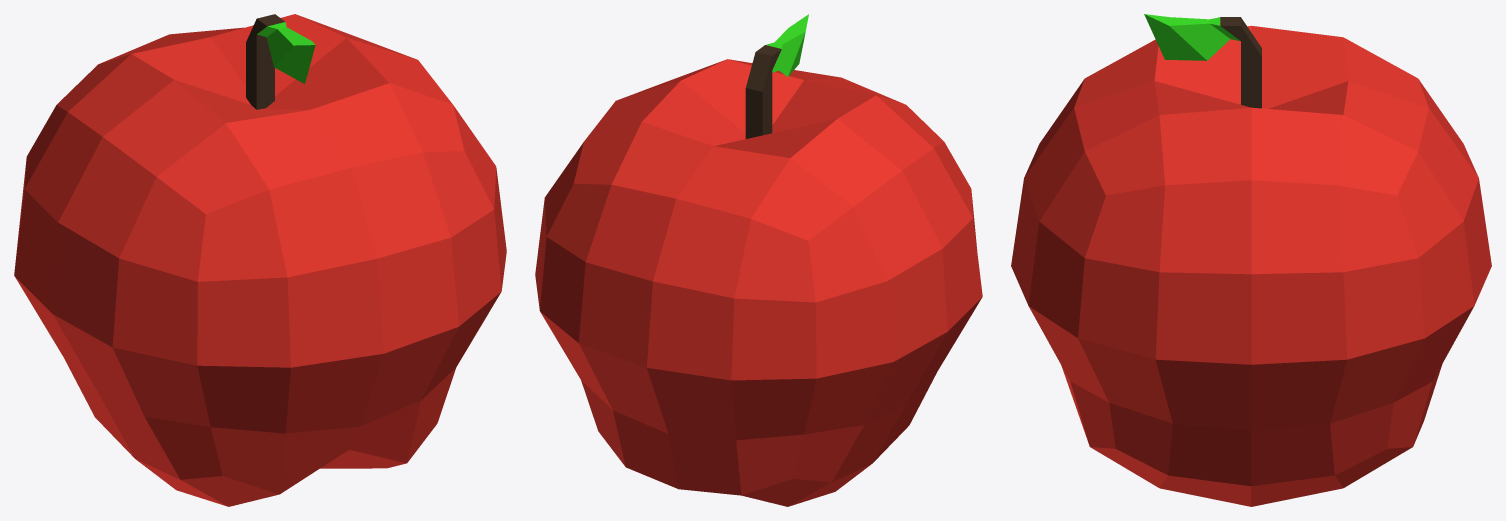
File: Manzana.fbx
3 views of the same model, side by side, from view 1: azimuth 30°, elevation 25°; view 2: azimuth 150°, elevation 25°; view 3: azimuth 270°, elevation 25° (orthographic). The views are drawn at different scales.
Visible parts, largest first — view 1: Cube; view 2: Cube; view 3: Cube.
Boxes of the visible parts, box(x1,y1,x2,y2) form: Cube: box(14, 14, 506, 506); Cube: box(535, 14, 982, 506); Cube: box(1011, 14, 1491, 506).
Bounding box in the file's own units: 161 × 172 × 165.
